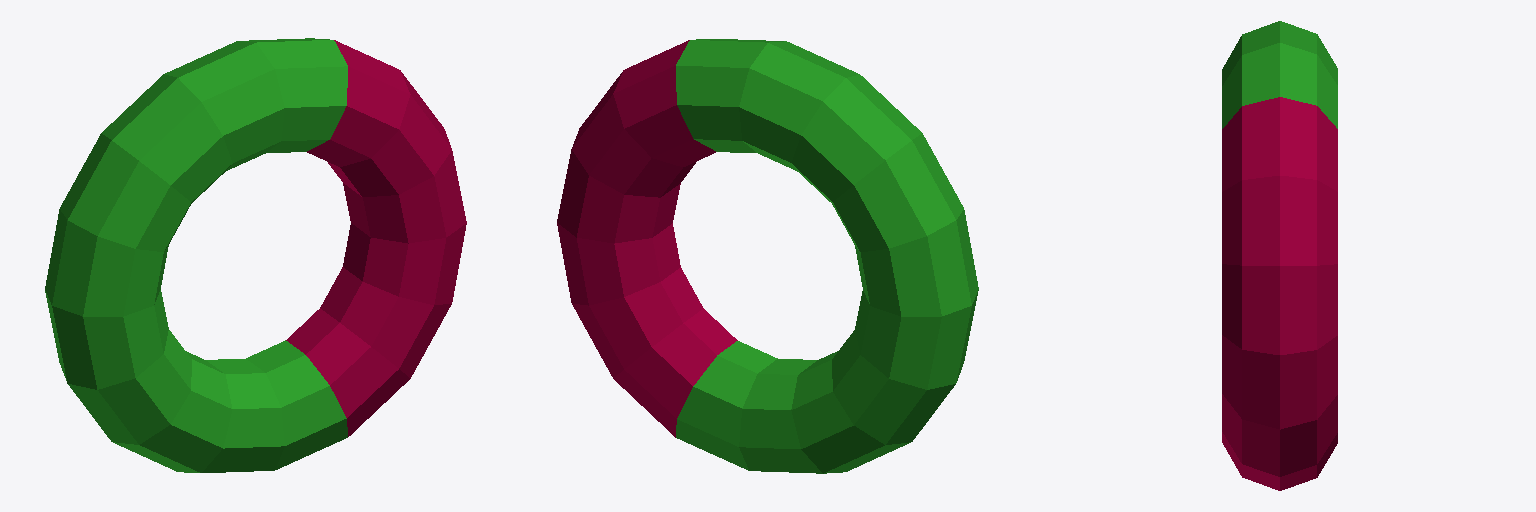
Rendered from coloredtorus2.obj.
The picture shows the model from 3 angles: view 1: azimuth 30°, elevation 25°; view 2: azimuth 150°, elevation 25°; view 3: azimuth 270°, elevation 25°; orthographic projection.
Visible parts, largest first — view 1: torus.000_torus.002; view 2: torus.000_torus.002; view 3: torus.000_torus.002.
Boxes of the visible parts, box(x1,y1,x2,y2) form: torus.000_torus.002: box(45, 38, 466, 472); torus.000_torus.002: box(557, 39, 978, 473); torus.000_torus.002: box(1222, 21, 1337, 490).
Size of the model in its own units: 2.82 by 2.82 by 0.6936.